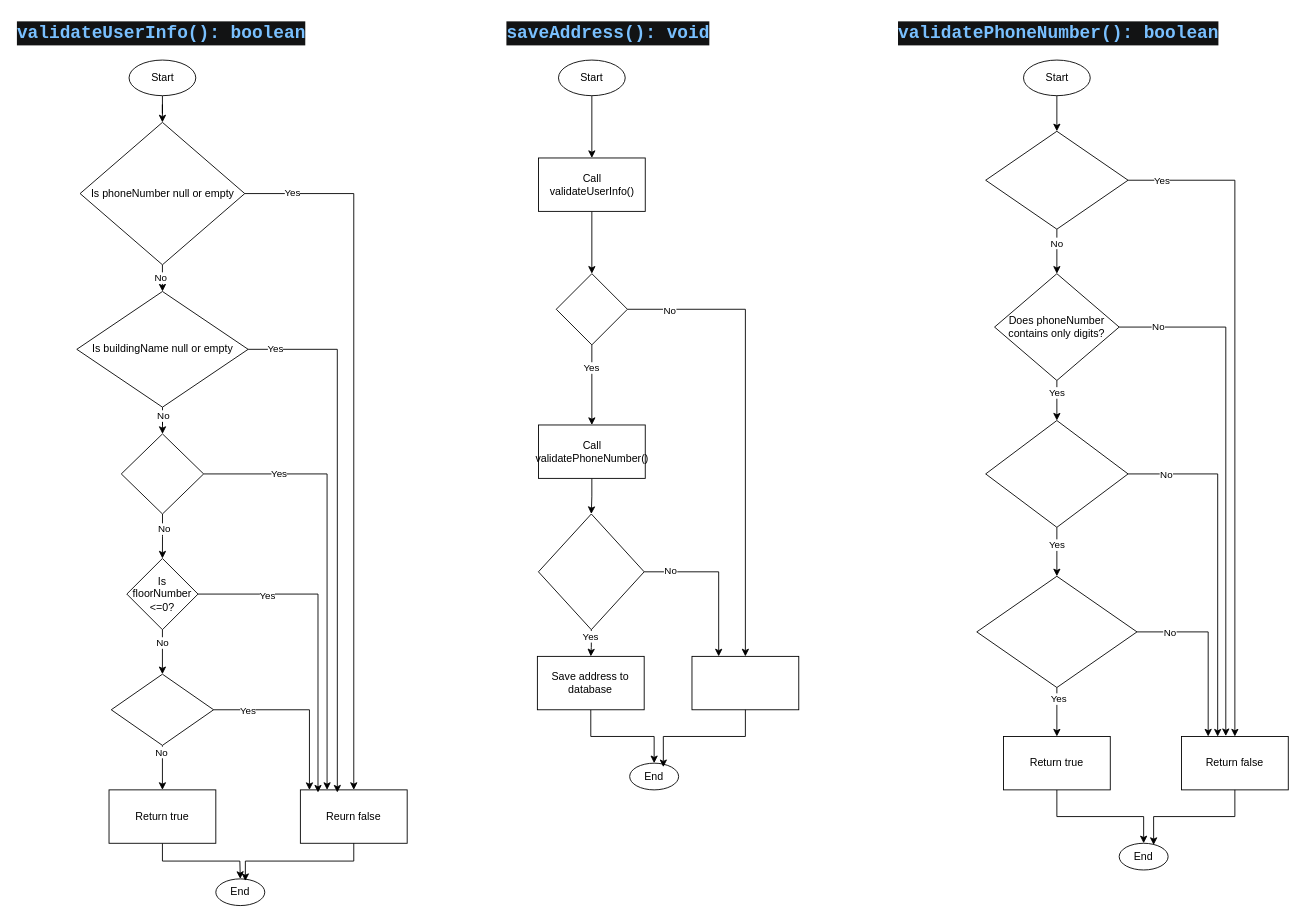
This 1304x921 diagram has some shape labels left out. The centre of each missing label's shape, as x and y in pixels:
"Does phoneNumber start with (010, 011, 012, 015)?" goes at point (1056, 631).
"Error msg" goes at point (745, 682).
"Is Address valid?" goes at point (591, 309).
"Is aptNumber <=0?" goes at point (162, 473).
"Is phone number valid?" goes at point (591, 571).
"Is phoneNumber length exactly 11?" goes at point (1056, 473).
"Is phoneNumber null or empty?" goes at point (1056, 179).
"Is street null or empty?" goes at point (162, 709).
